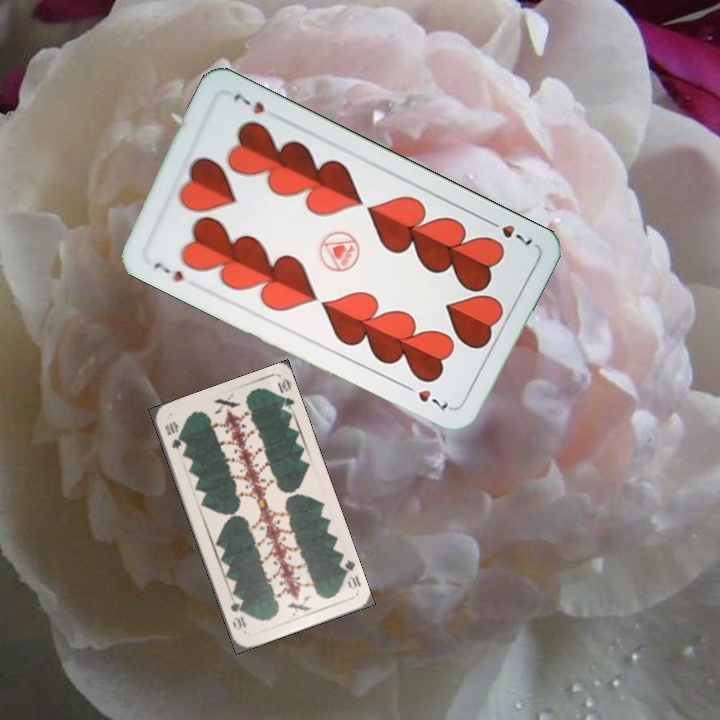G10: (335, 556, 364, 592), (161, 417, 184, 451)
H7: (482, 215, 536, 250), (149, 258, 187, 285)
